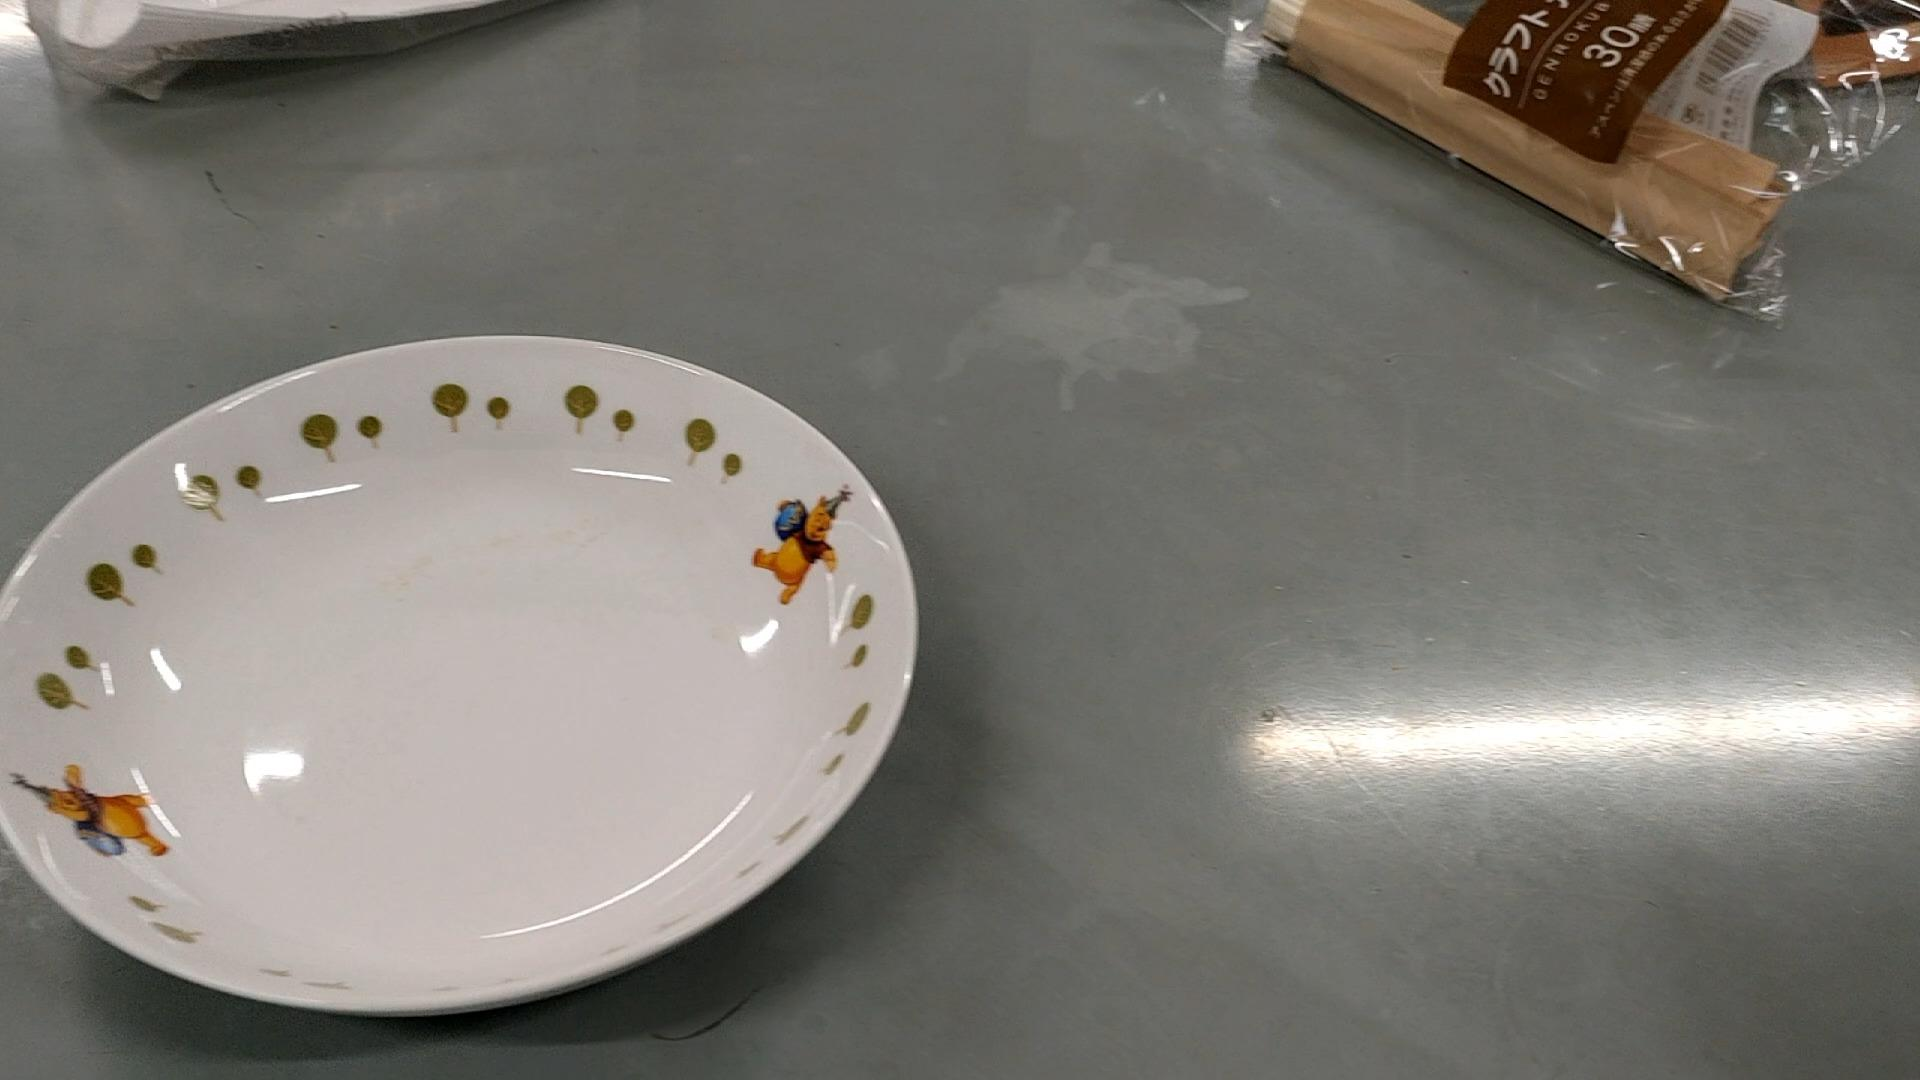plate: (0, 334, 918, 1014)
